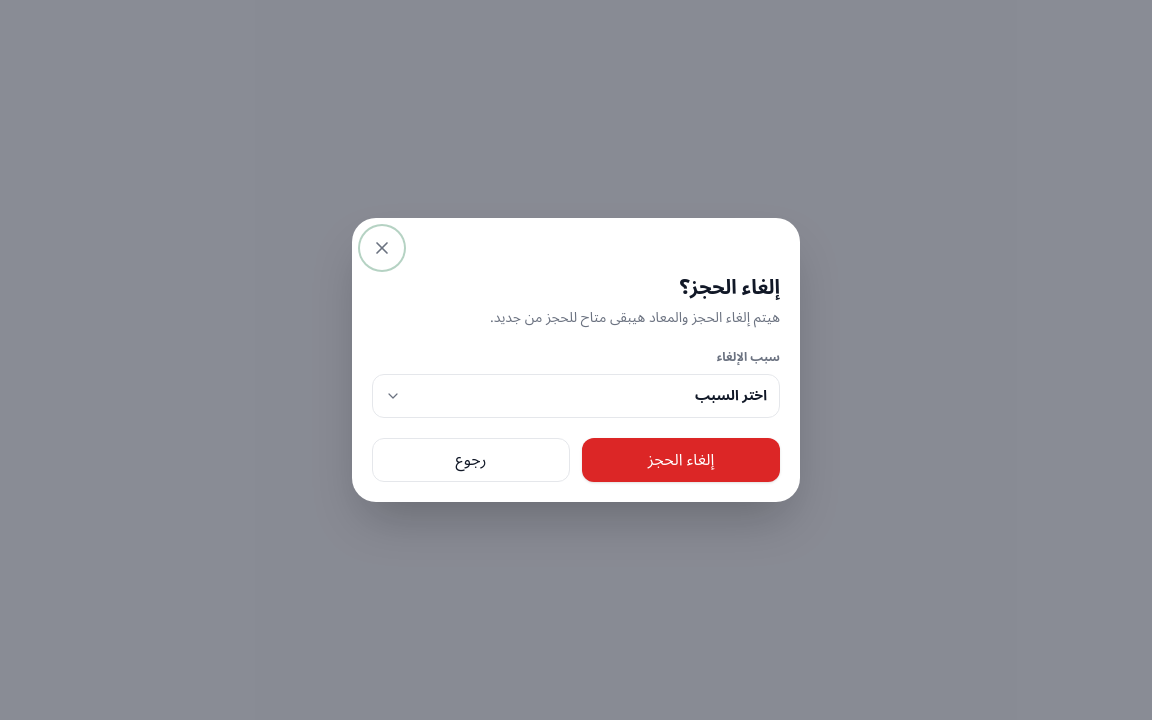
Scenario: CancelBookingReasonSheet › requires notes when reason is other
What coordinates should you click on to do the following:
click the button named "سبب الإلغاء"
I would click on:
 (731, 396)
Its box is [372,374,780,418].
(page scrolled)
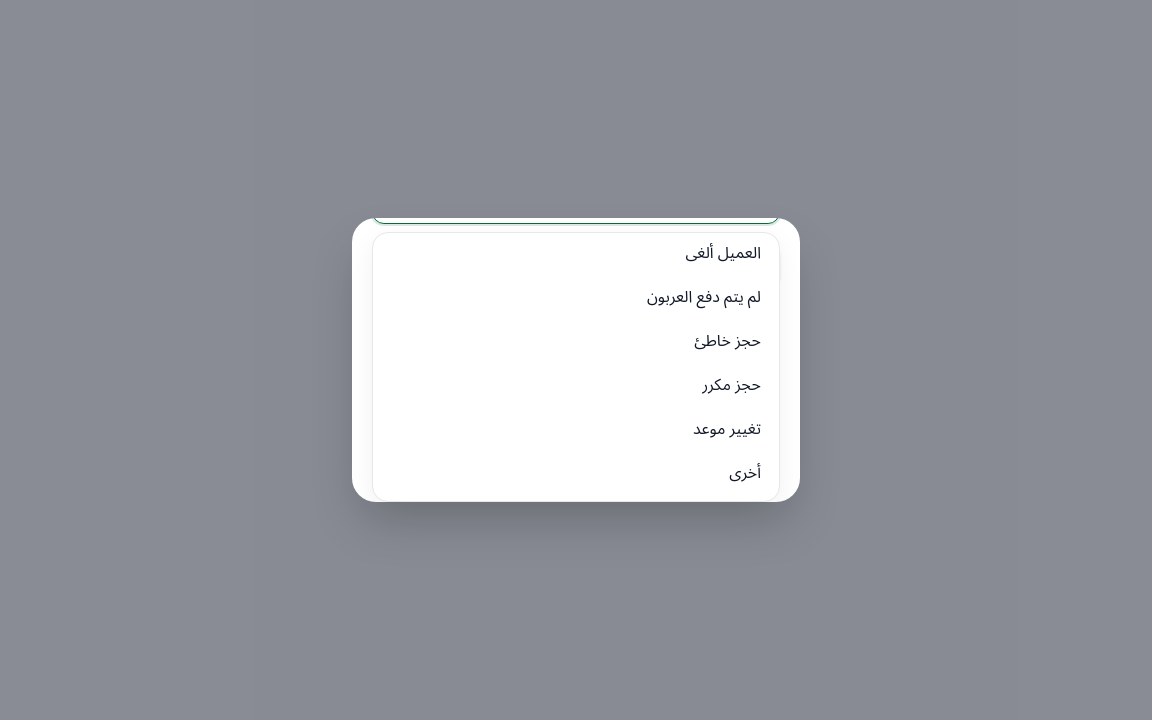
What coordinates should you click on to do the following:
click the option "أخرى"
I would click on:
 (745, 473)
Its box is [379,451,773,495].
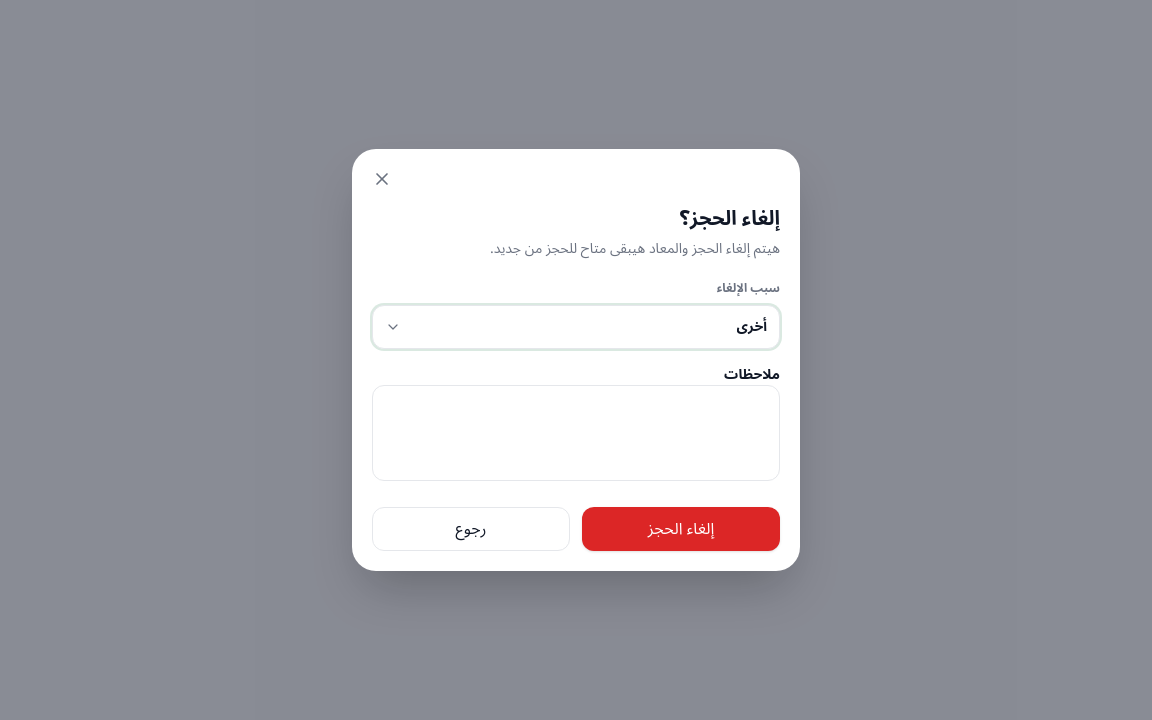
What coordinates should you click on to do the following:
click the button "إلغاء الحجز"
I would click on:
 (681, 529)
Its box is [582,507,780,551].
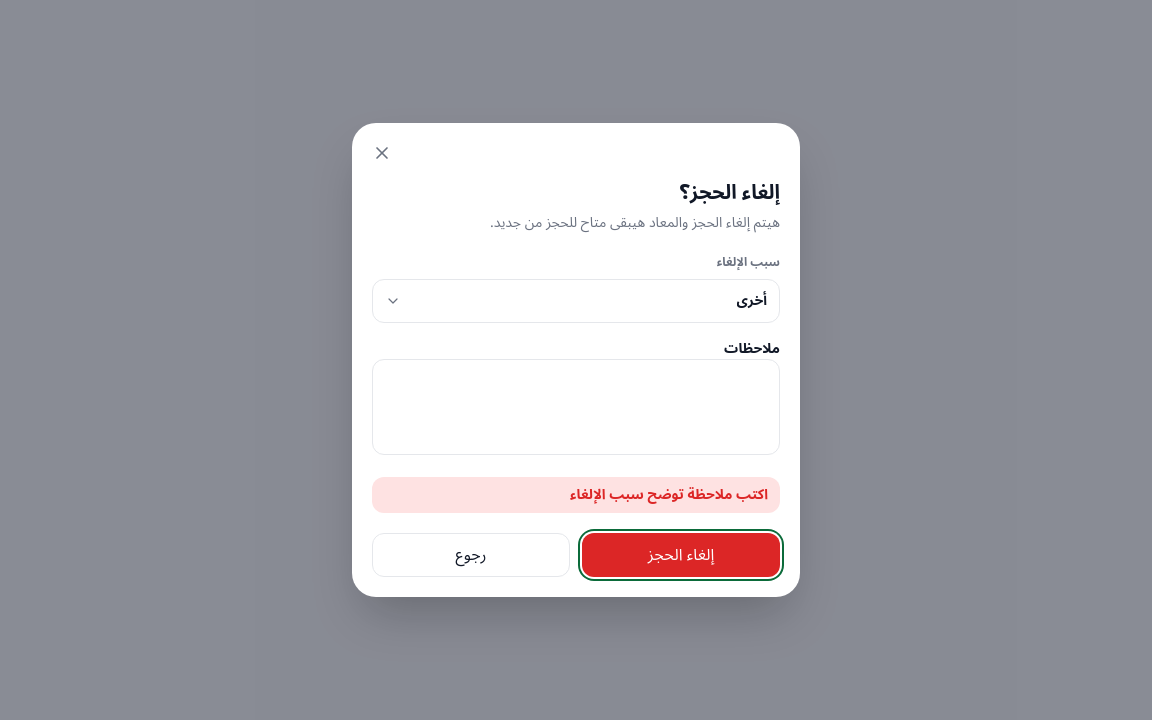
Expected: the text "اكتب ملاحظة توضح سبب الإلغاء" is shown, [372,477,780,513]
